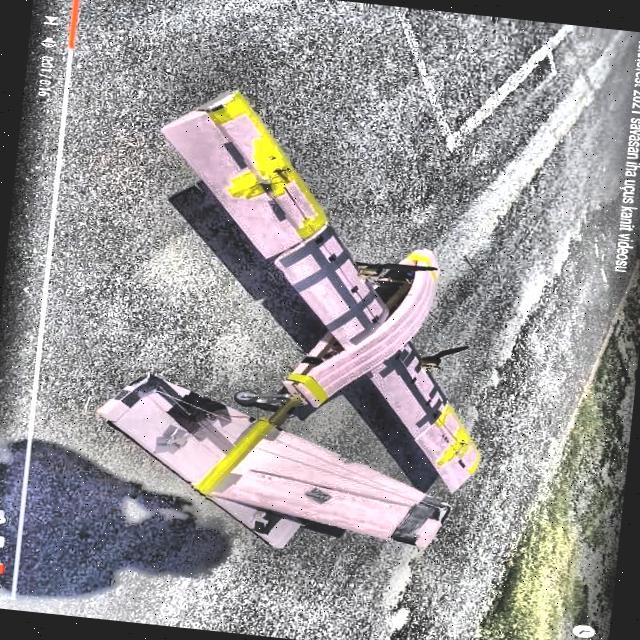iha: (73, 68, 525, 582)
